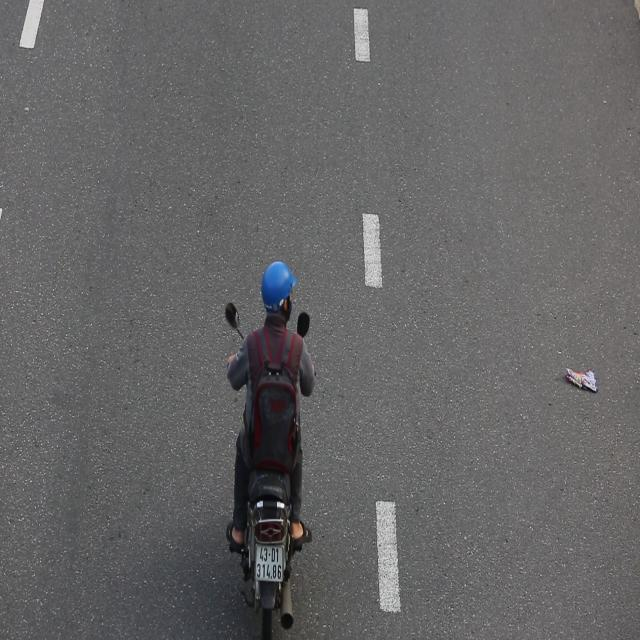motorbike: (223, 253, 321, 640)
